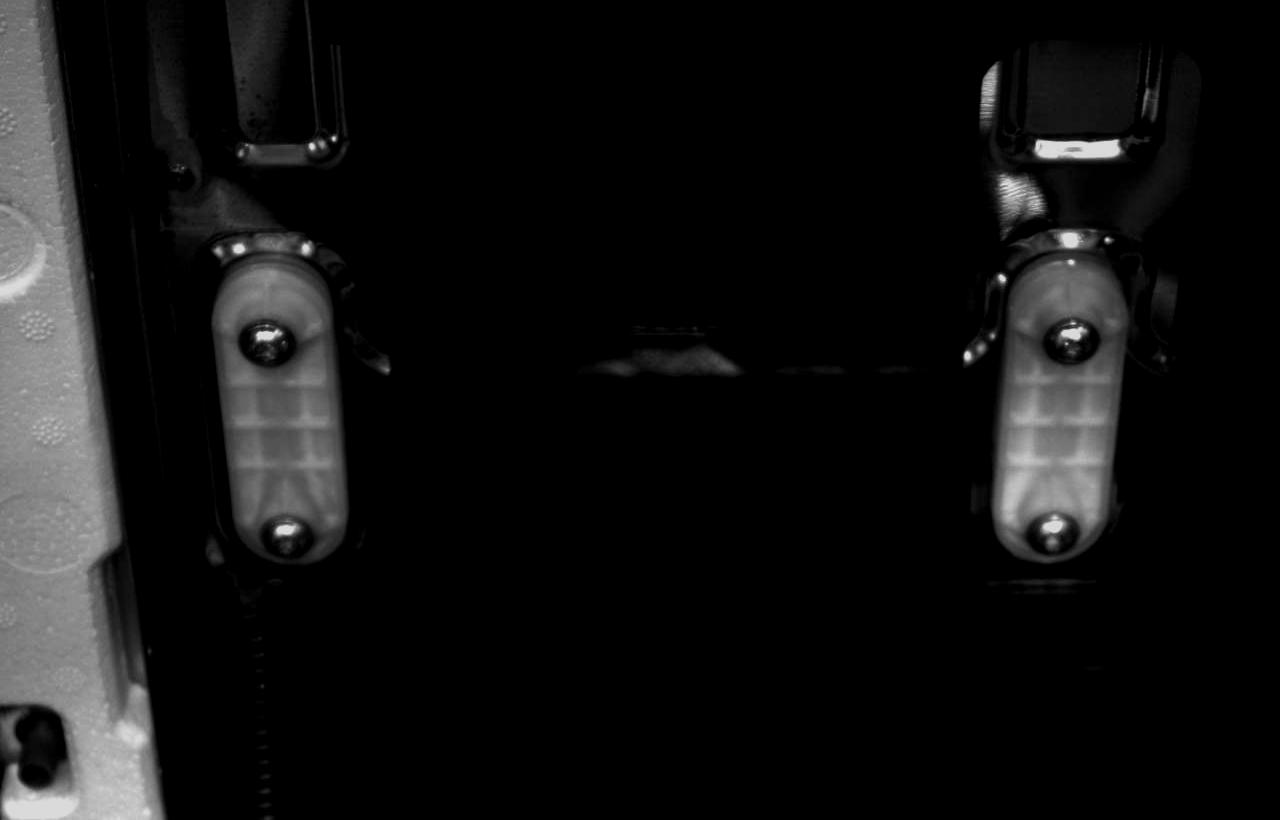vida-ok: (227, 302, 299, 369), (1036, 304, 1103, 371), (1019, 495, 1084, 564), (256, 504, 321, 562)
